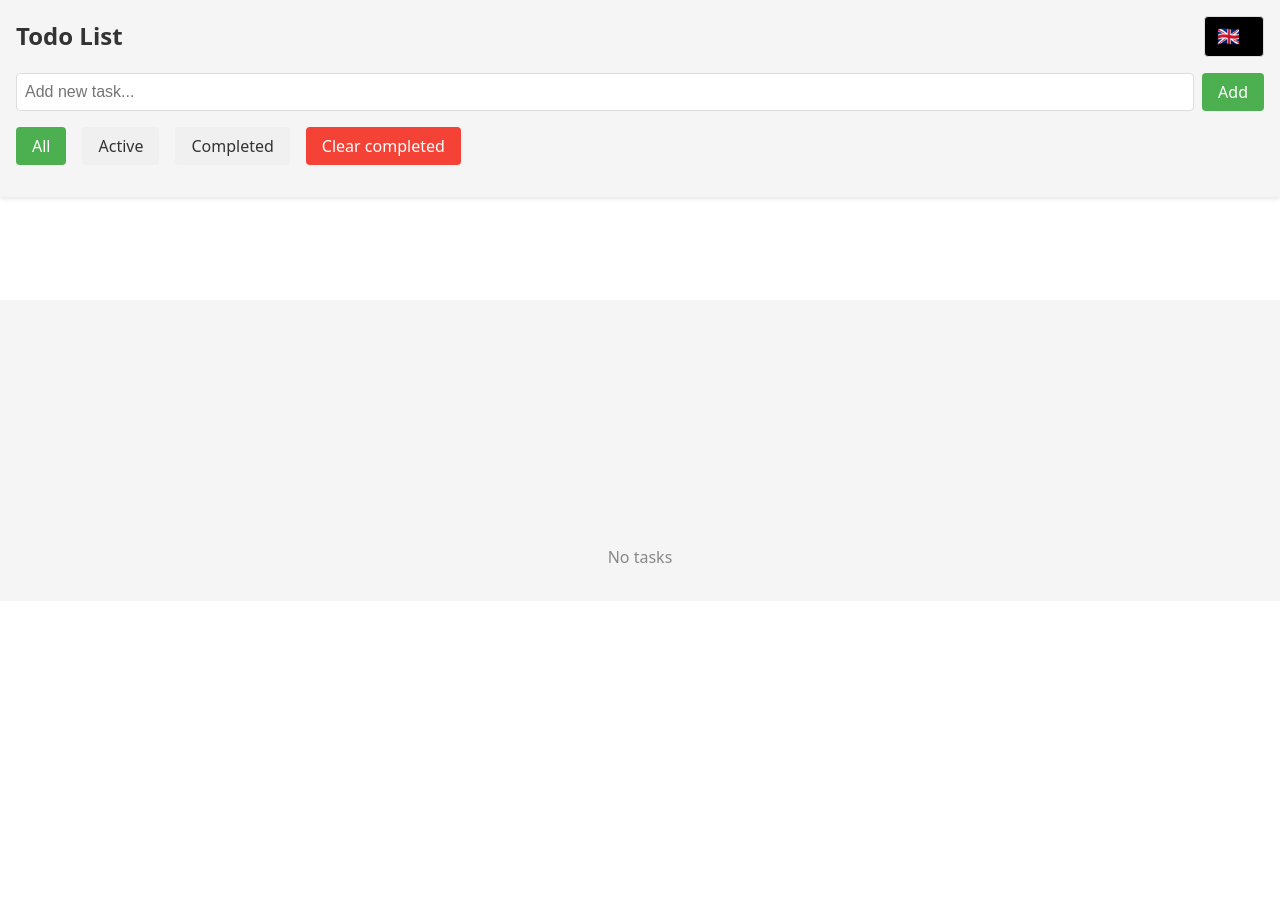
Test: TodoList › filters todos correctly
Note: Добавляем активную задачу
In the field with placeholder "Add new task...": (605, 92) left=16, top=73, right=1194, bottom=111, type "Active Todo"
Click the button "Add": (1233, 92) left=1202, top=73, right=1264, bottom=111
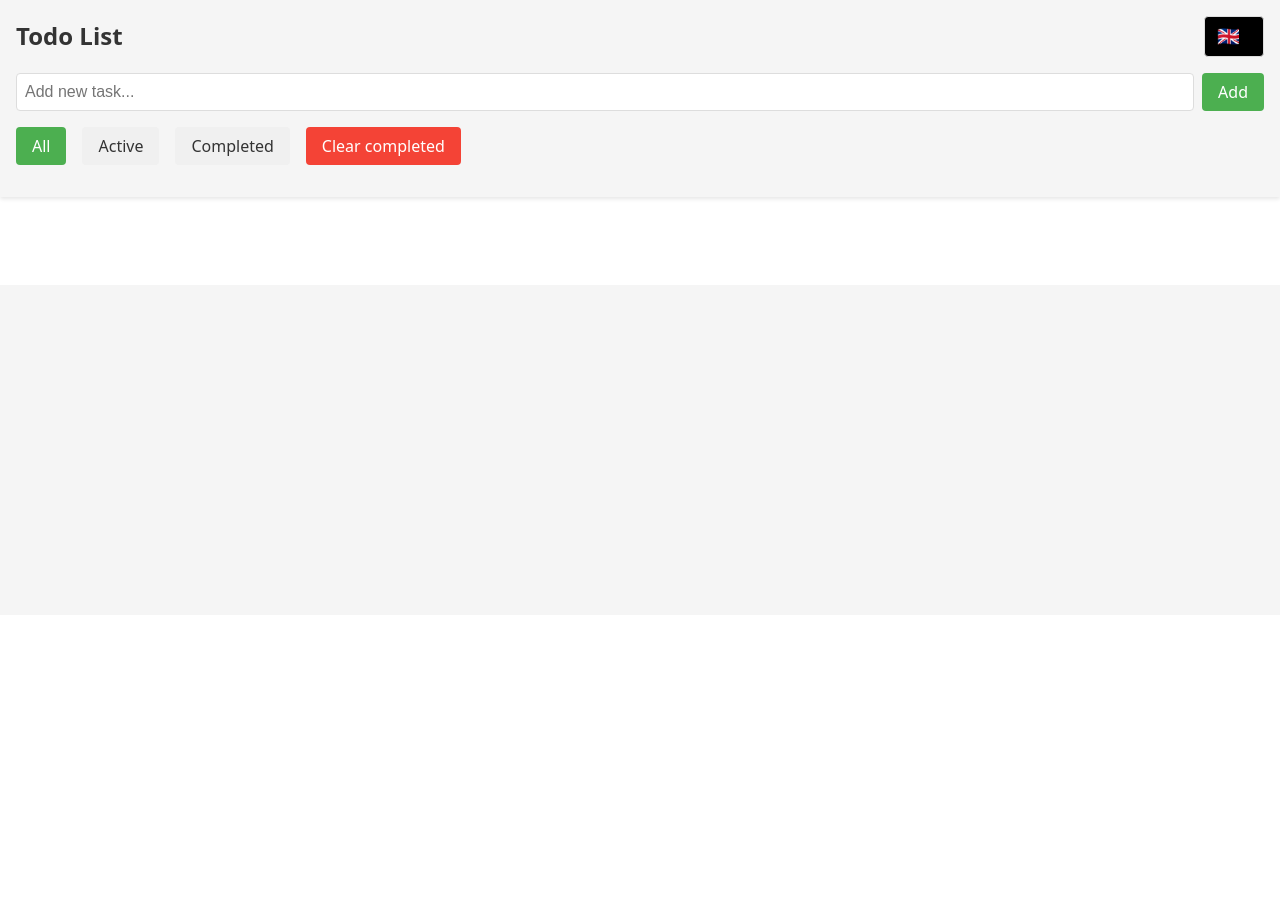
Note: Добавляем выполненную задачу
In the field with placeholder "Add new task...": (605, 92) left=16, top=73, right=1194, bottom=111, type "Completed Todo"
Click the button "Add": (1233, 92) left=1202, top=73, right=1264, bottom=111
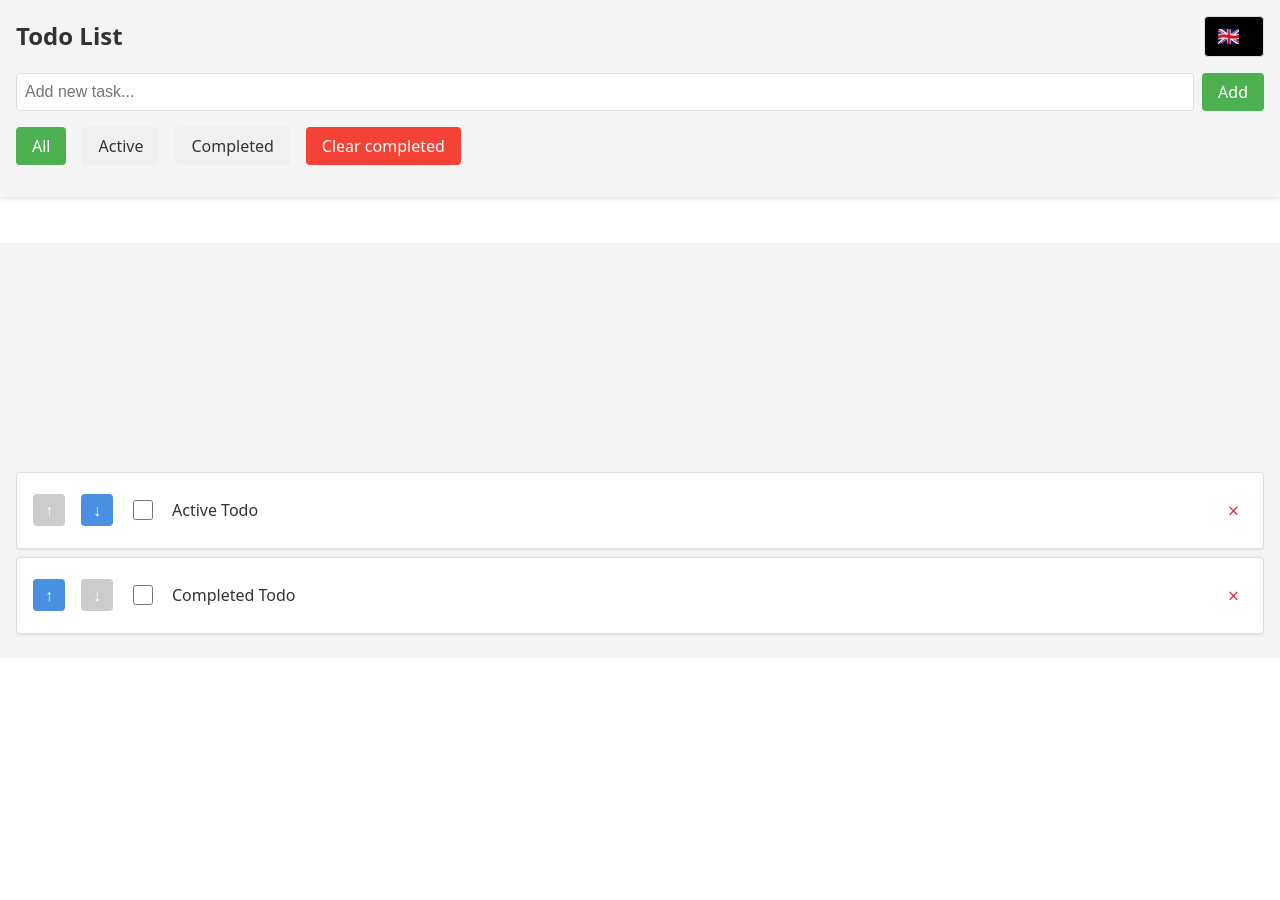
Note: Находим и кликаем по чекбоксу второй задачи
Click the checkbox next to "Completed Todo": (143, 595) left=133, top=585, right=153, bottom=605
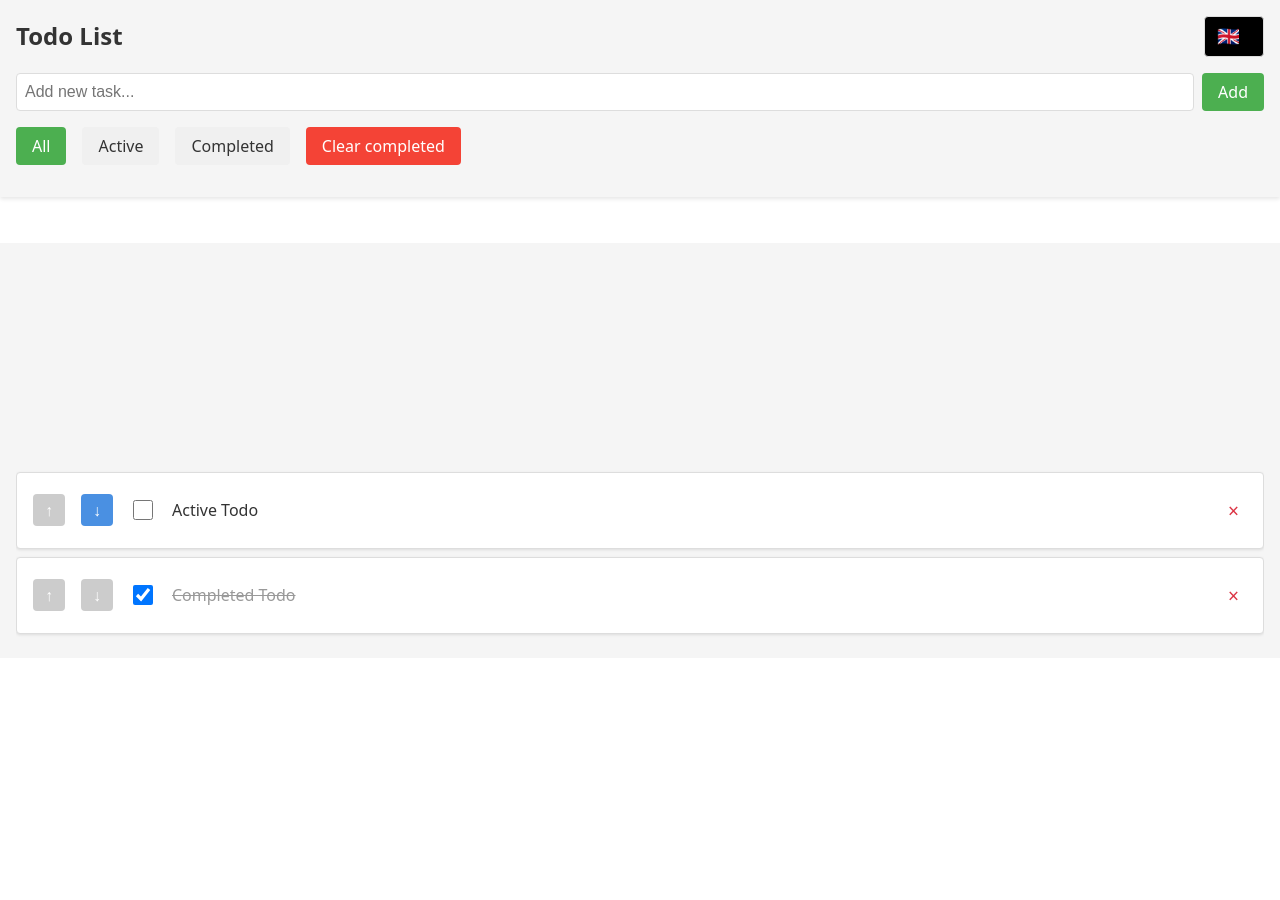
Click the button "Active": (121, 146) left=82, top=127, right=160, bottom=165
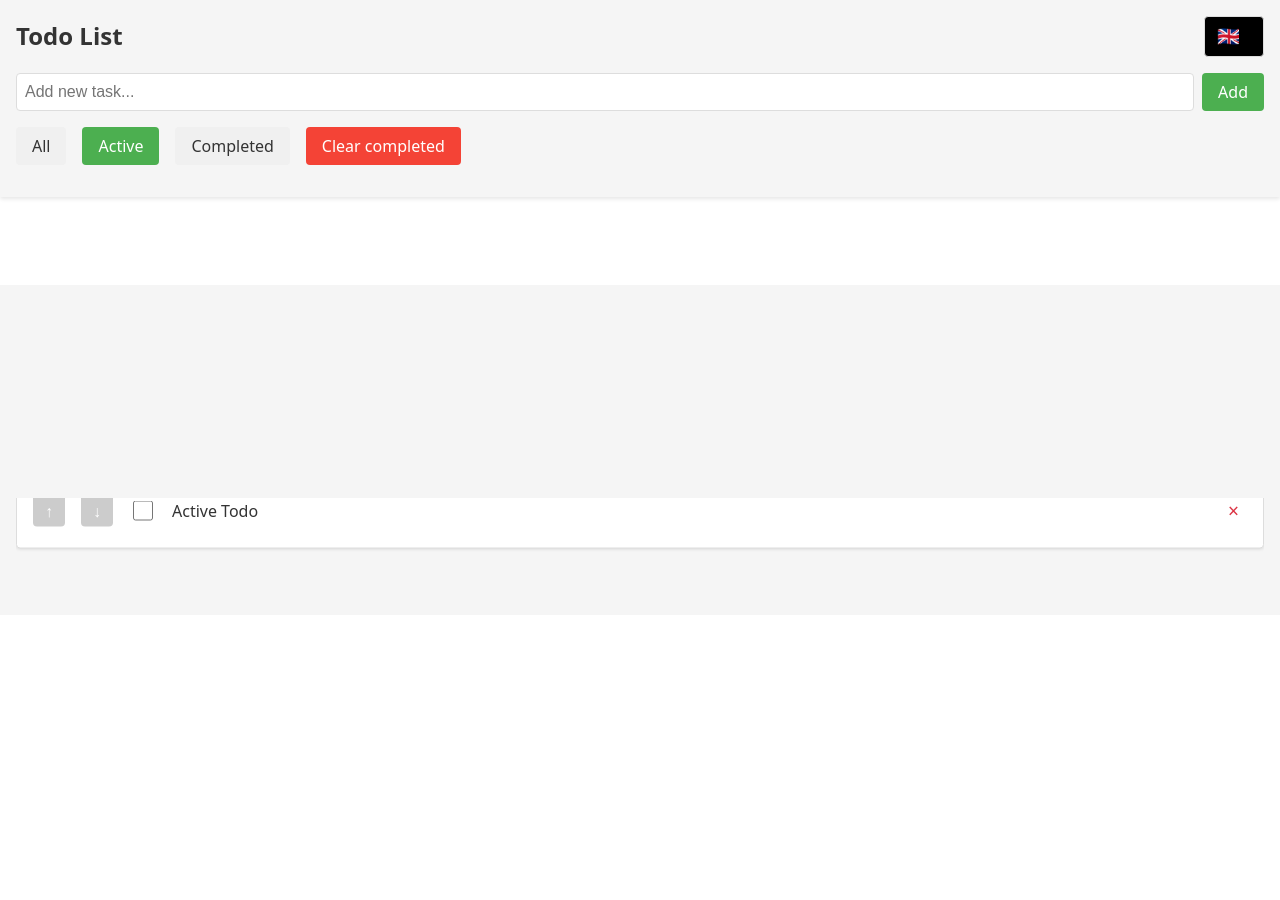
Expected: the text "Active Todo" is shown, left=172, top=499, right=258, bottom=521
Expected: the text "Completed Todo" is gone
Click the button "Completed": (233, 146) left=176, top=127, right=290, bottom=165
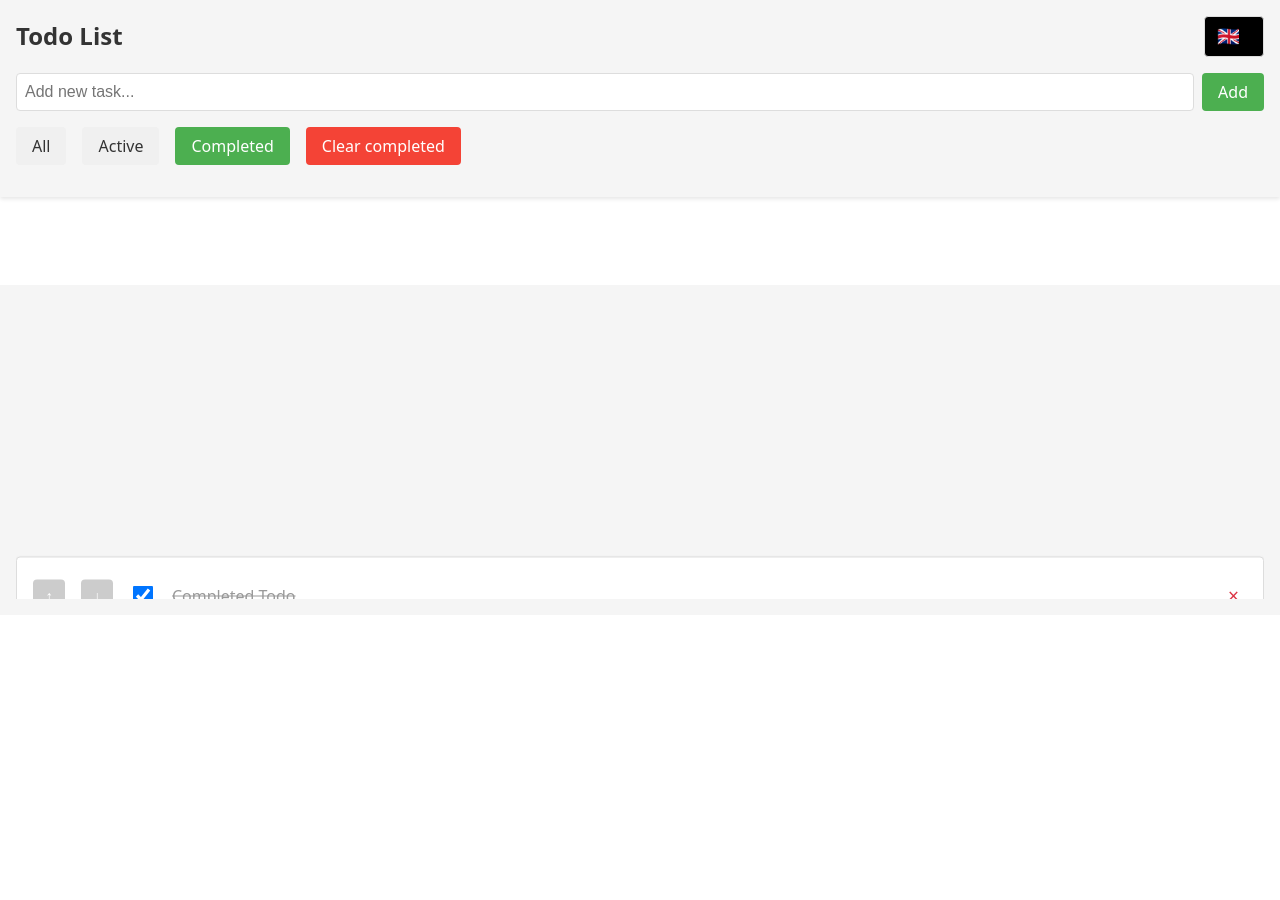
Expected: the text "Active Todo" is gone
Expected: the text "Completed Todo" is shown, left=172, top=584, right=296, bottom=599
Click the button "All": (41, 146) left=16, top=127, right=66, bottom=165
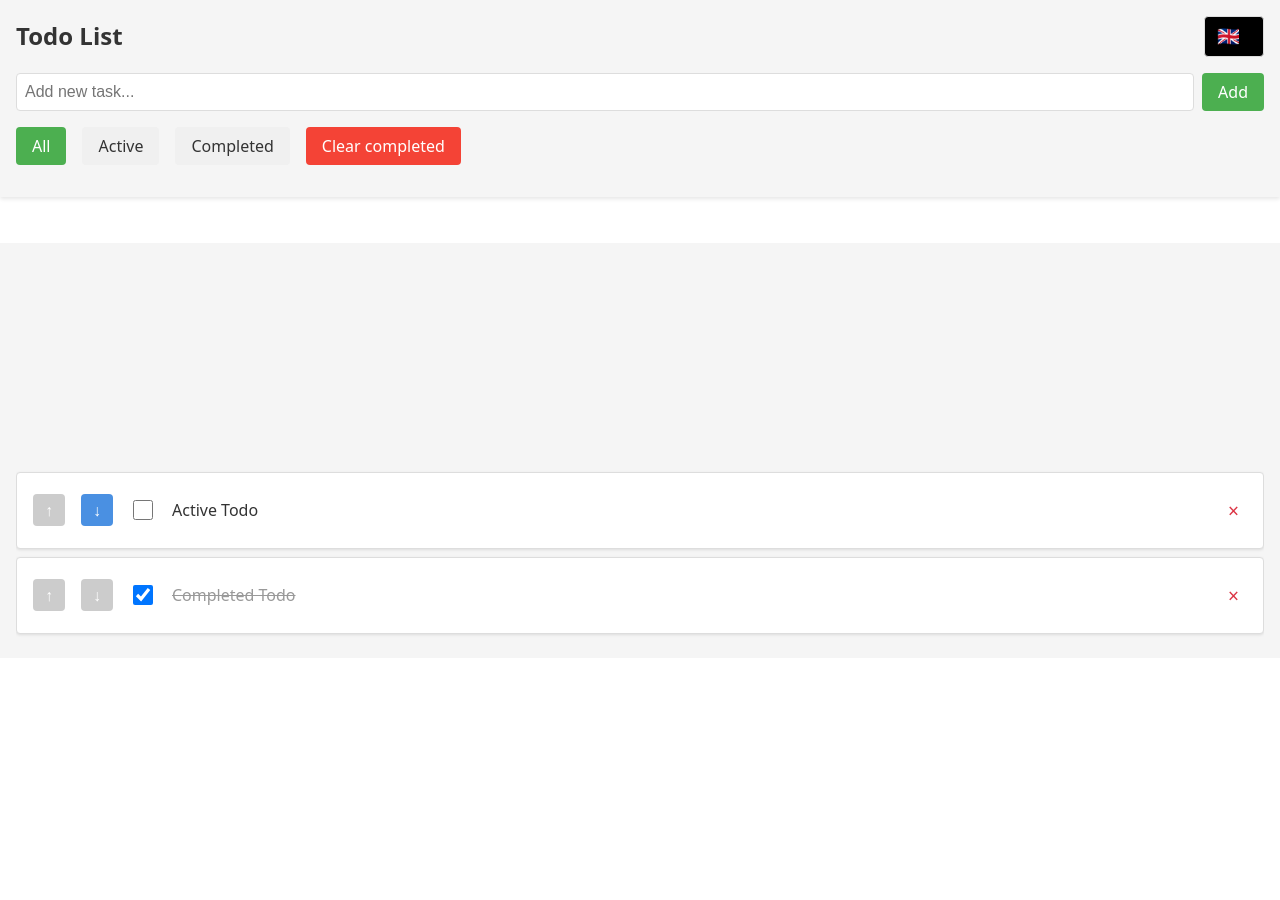
Expected: the text "Completed Todo" is shown, left=172, top=584, right=296, bottom=606
Expected: the text "Active Todo" is shown, left=172, top=499, right=258, bottom=521
